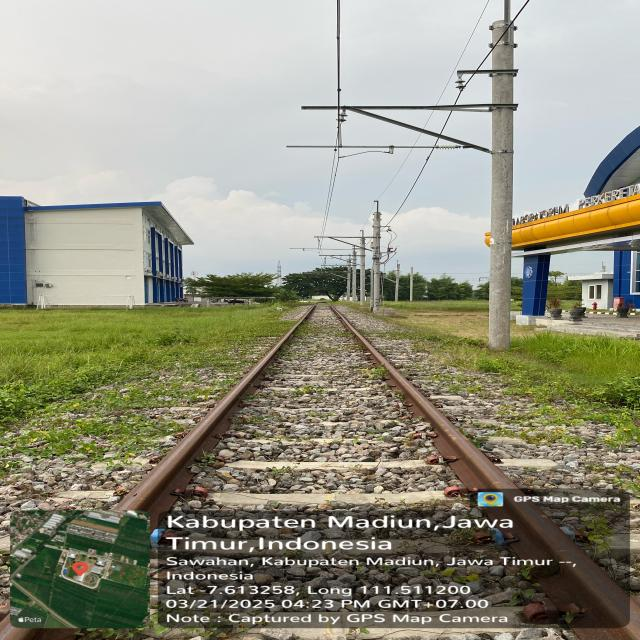rail-detection: (330, 307, 634, 640), (115, 307, 315, 530)
